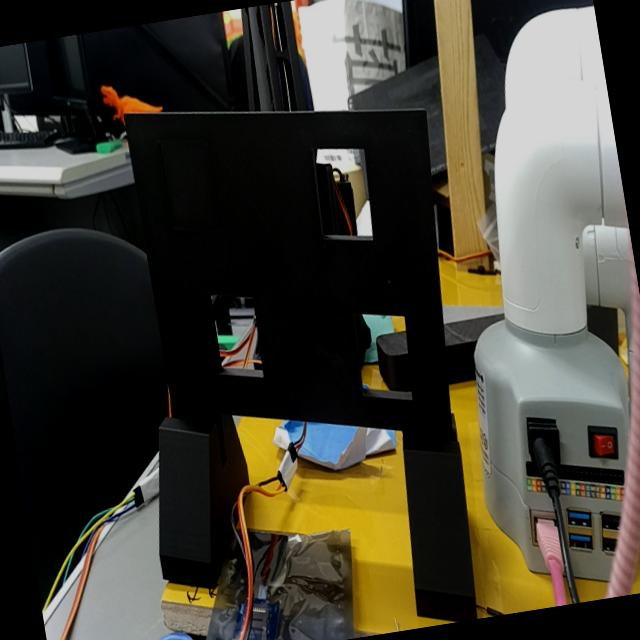Obstacle: (312, 148, 374, 238), (355, 313, 412, 397), (211, 296, 261, 377)
Wall: (126, 109, 453, 446)
